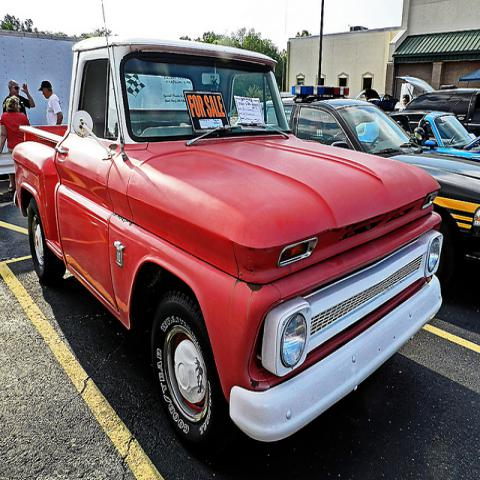car: (286, 95, 479, 283), (394, 75, 480, 136), (388, 110, 479, 163)
truck: (12, 2, 444, 459)
